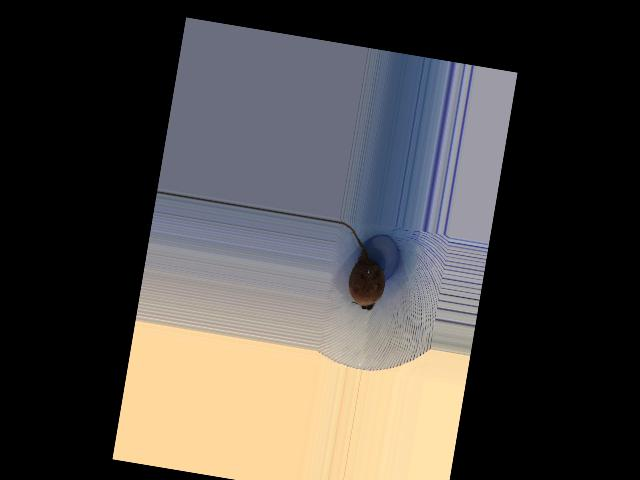beet: (324, 221, 393, 312)
